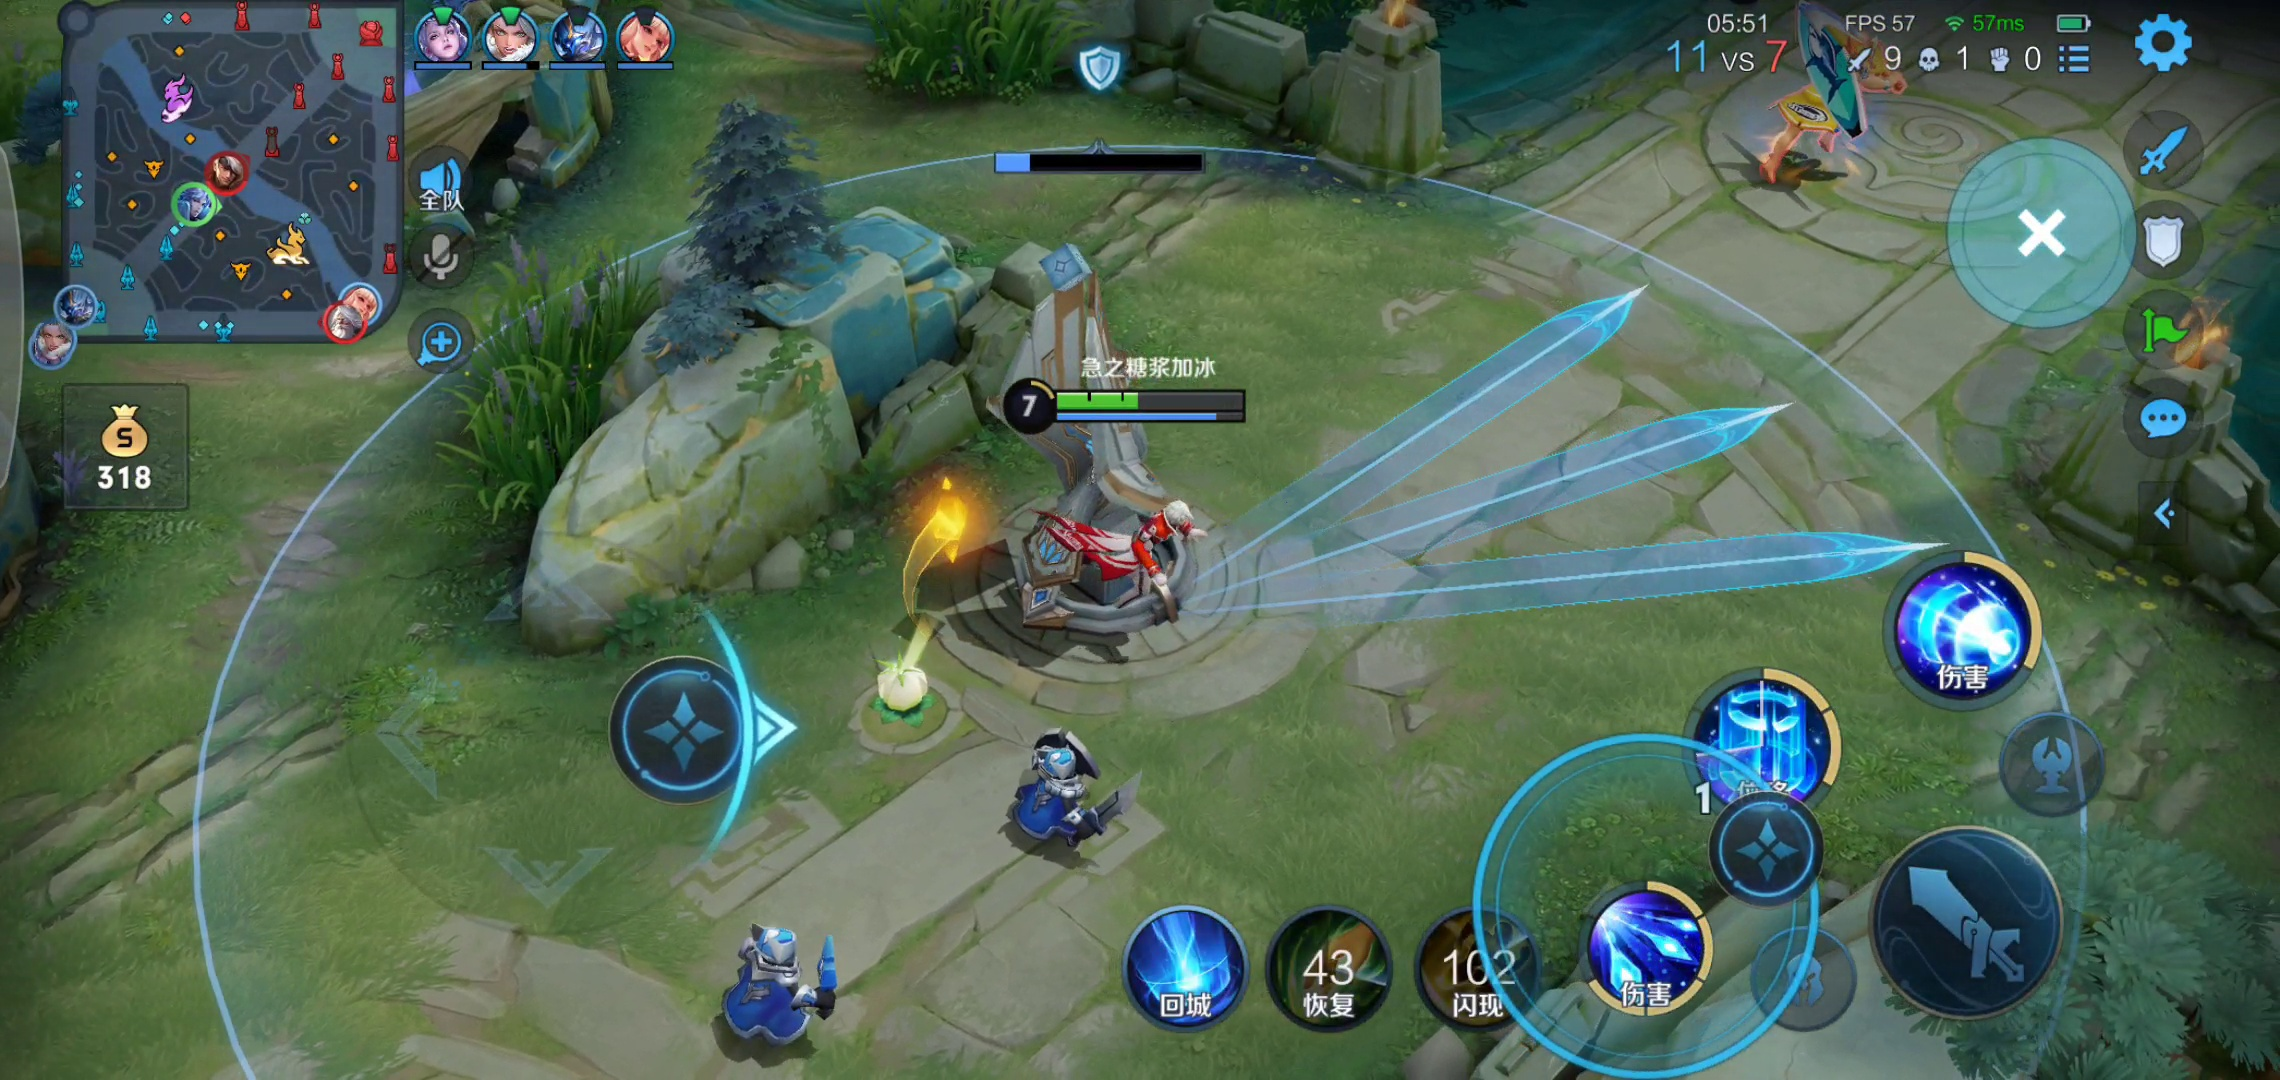grass: (422, 270, 627, 507), (838, 1, 1096, 94)
hero: (1752, 20, 1948, 180), (1061, 504, 1227, 616)
soldier: (995, 712, 1157, 859), (699, 914, 880, 1038)
tower: (977, 241, 1265, 663)
